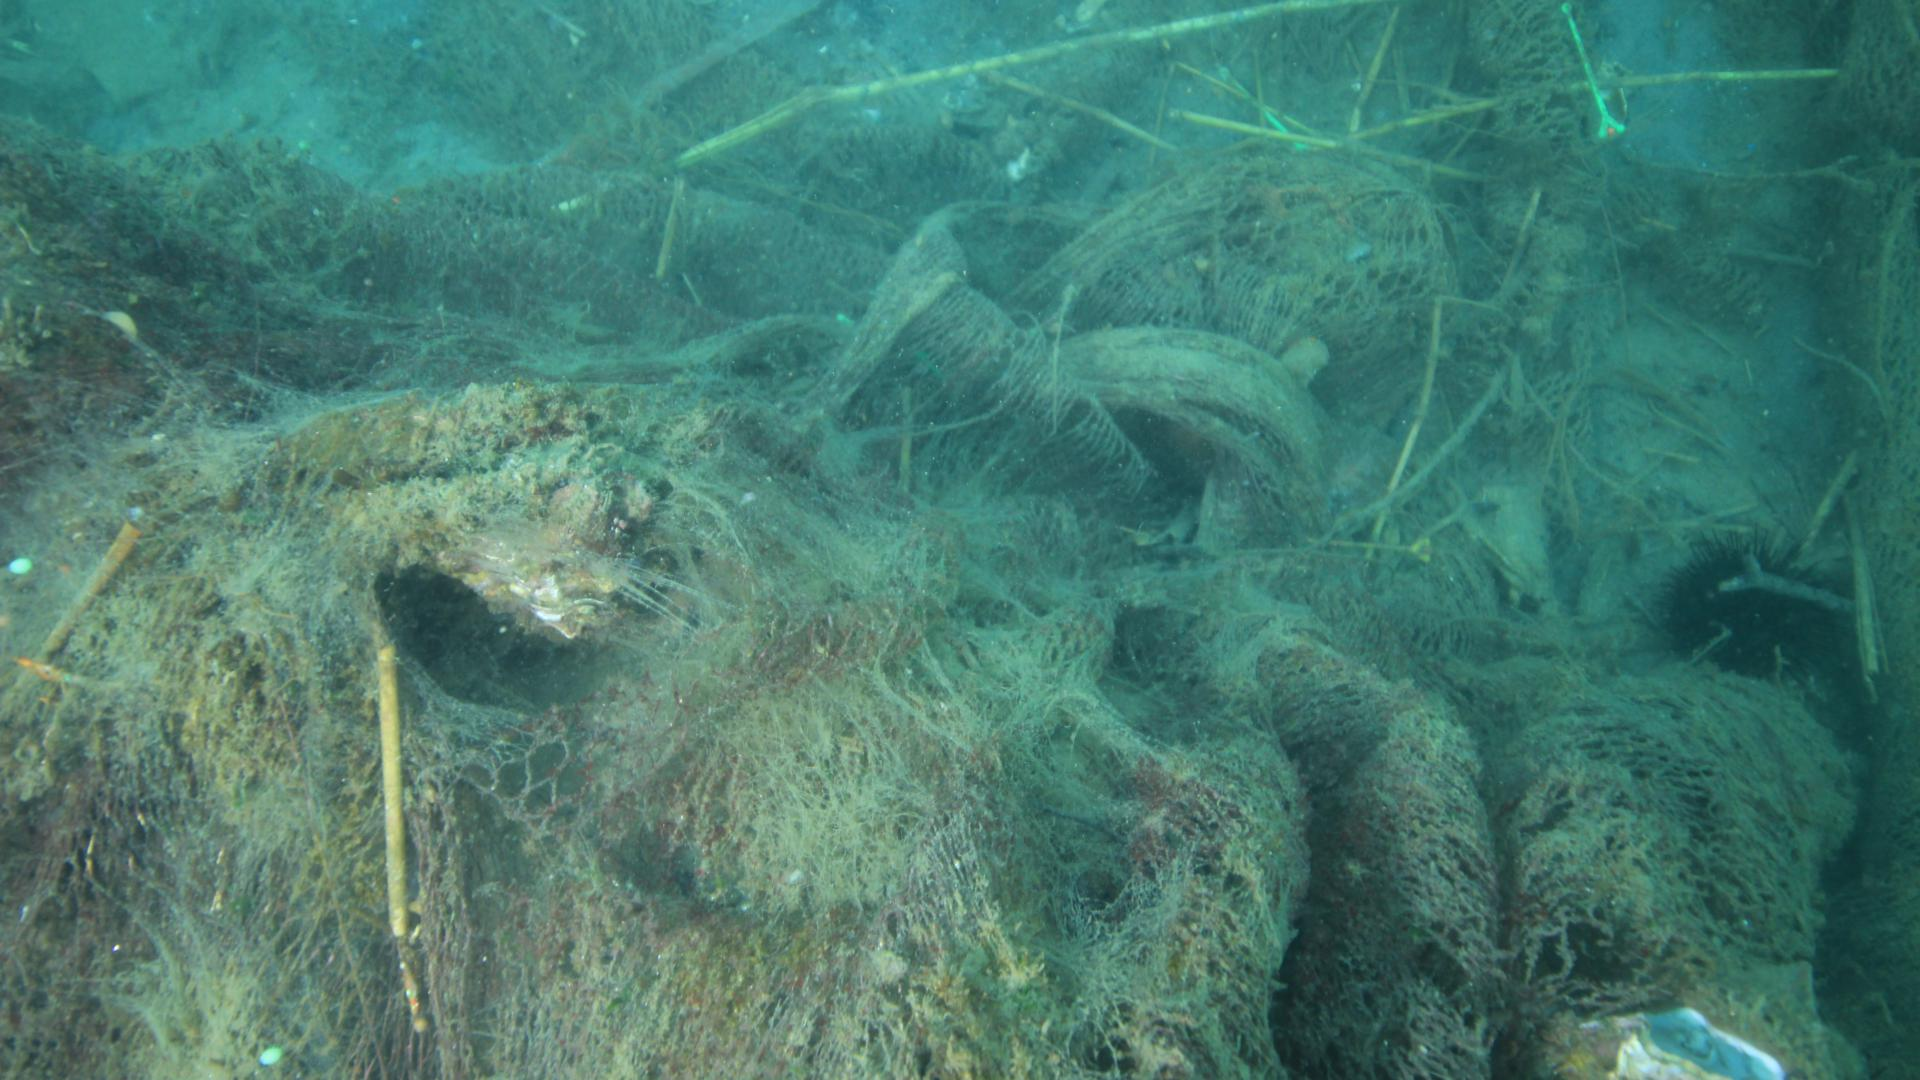fish net: (1845, 0, 1920, 589), (1567, 720, 1783, 918), (1222, 175, 1439, 324), (1484, 0, 1575, 108)
